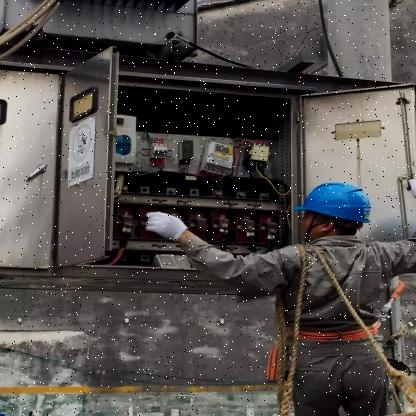capacete: (292, 178, 376, 242)
sem_colete_refletivo: (258, 232, 416, 366)
